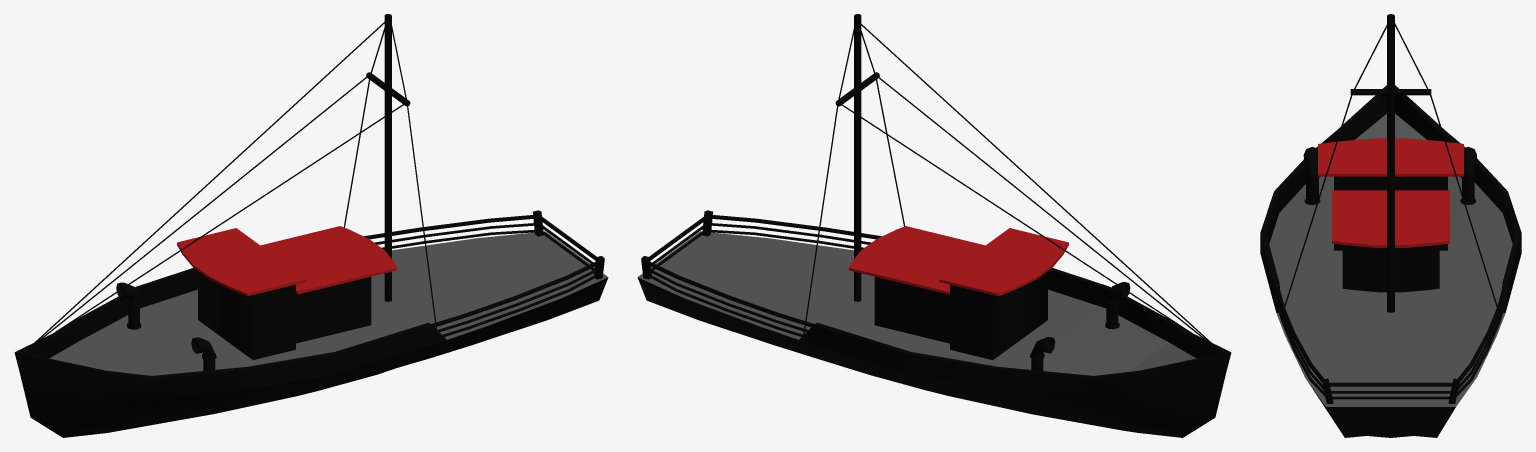
Rendered from SHIP_1.fbx.
The picture shows the model from 3 angles, left to right: view 1: azimuth 30°, elevation 25°; view 2: azimuth 150°, elevation 25°; view 3: azimuth 270°, elevation 25°; orthographic projection. The views are drawn at different scales.
Visible parts, largest first — view 1: pCylinder1.002; view 2: pCylinder1.002; view 3: pCylinder1.002.
Boxes of the visible parts, x1,y1,x2,y2 form: pCylinder1.002: (14,14,608,437); pCylinder1.002: (637,14,1231,437); pCylinder1.002: (1260,14,1521,437).
Bounding box in the file's own units: 1516 × 898 × 587.
